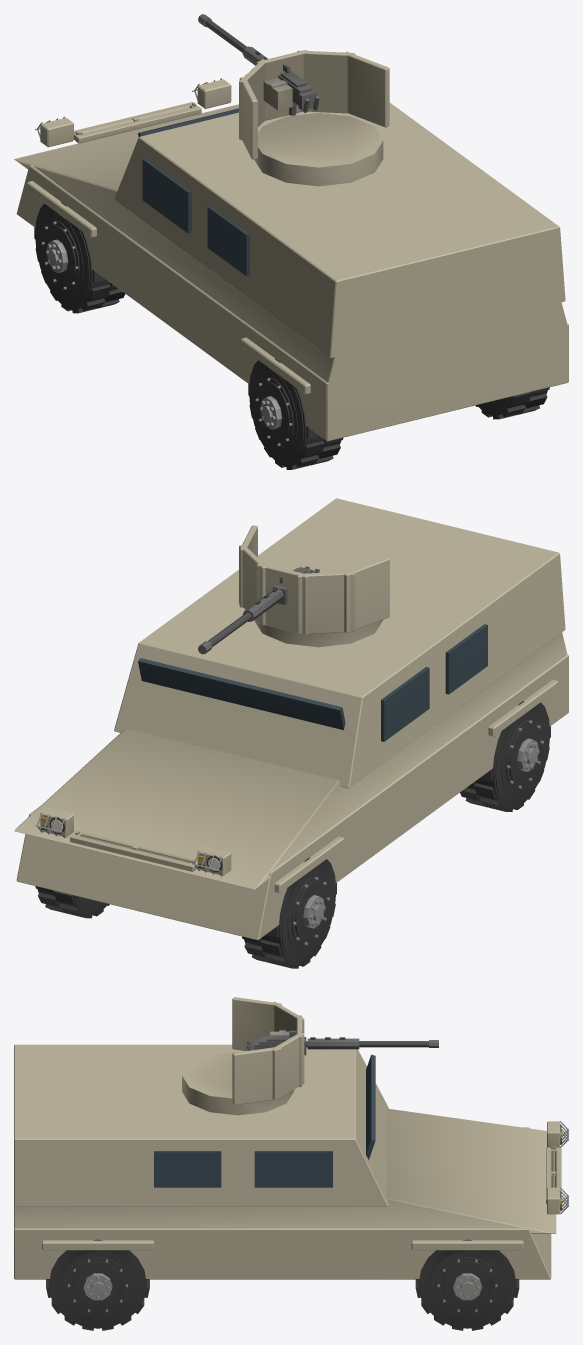
File: technical_usa.glb
3 renders of one model, top to bottom at view 1: azimuth 30°, elevation 25°; view 2: azimuth 150°, elevation 25°; view 3: azimuth 270°, elevation 25°, orthographic. The views are drawn at different scales.
Parts seen in each view (by area): view 1: body, turret, wheel_2, wheel_0, barrel, wheel_3; view 2: body, turret, wheel_0, wheel_2, barrel, wheel_1; view 3: body, turret, wheel_1, wheel_3, barrel.
Boxes of the visible parts, x1,y1,x2,y2 form: body: (14, 78, 568, 441); turret: (239, 50, 389, 186); wheel_2: (248, 358, 343, 469); wheel_0: (34, 202, 125, 313); barrel: (198, 14, 319, 115); wheel_3: (475, 387, 549, 419); body: (14, 498, 568, 940); turret: (239, 525, 389, 647); wheel_0: (242, 857, 336, 968); wheel_2: (460, 701, 550, 811); barrel: (198, 566, 319, 654); wheel_1: (35, 886, 109, 918); body: (14, 1044, 568, 1279); turret: (182, 997, 304, 1115); wheel_1: (415, 1239, 519, 1330); wheel_3: (46, 1239, 149, 1330); barrel: (246, 1030, 438, 1055).
Size of the model in its own units: 2.38 by 2.5 by 4.96.
